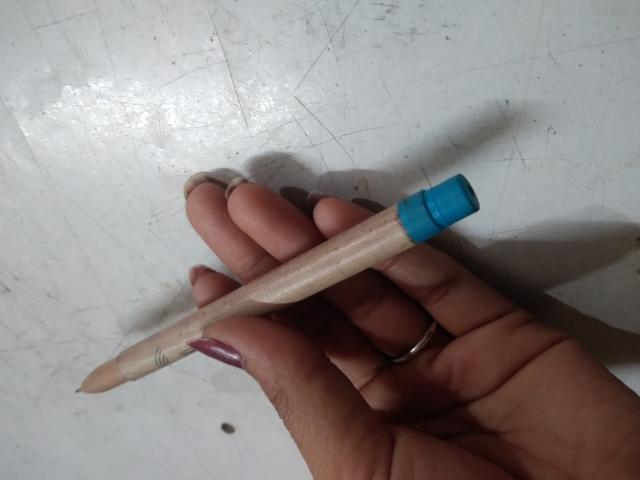PEN: (122, 79, 579, 310)
